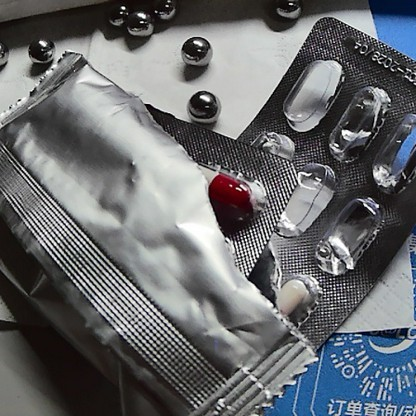ironball: (182, 87, 223, 126), (172, 37, 217, 70), (124, 10, 155, 37), (25, 31, 52, 61), (102, 2, 134, 27), (266, 2, 298, 23)
